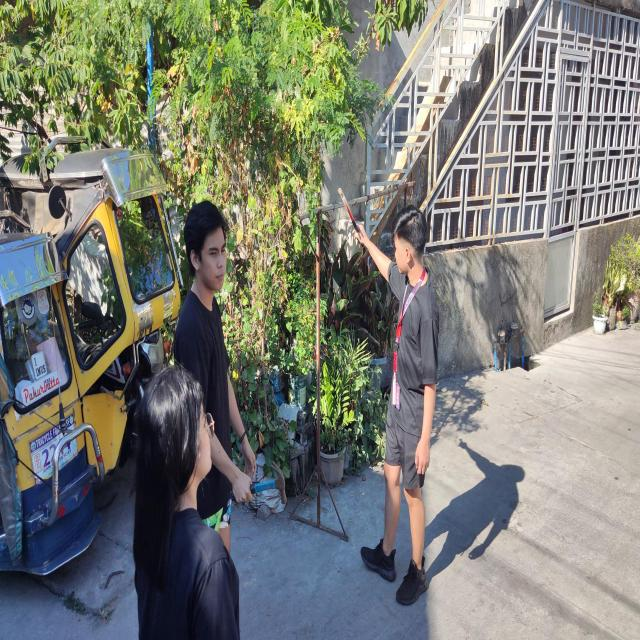hammer: (249, 461, 287, 504), (337, 188, 364, 247)
